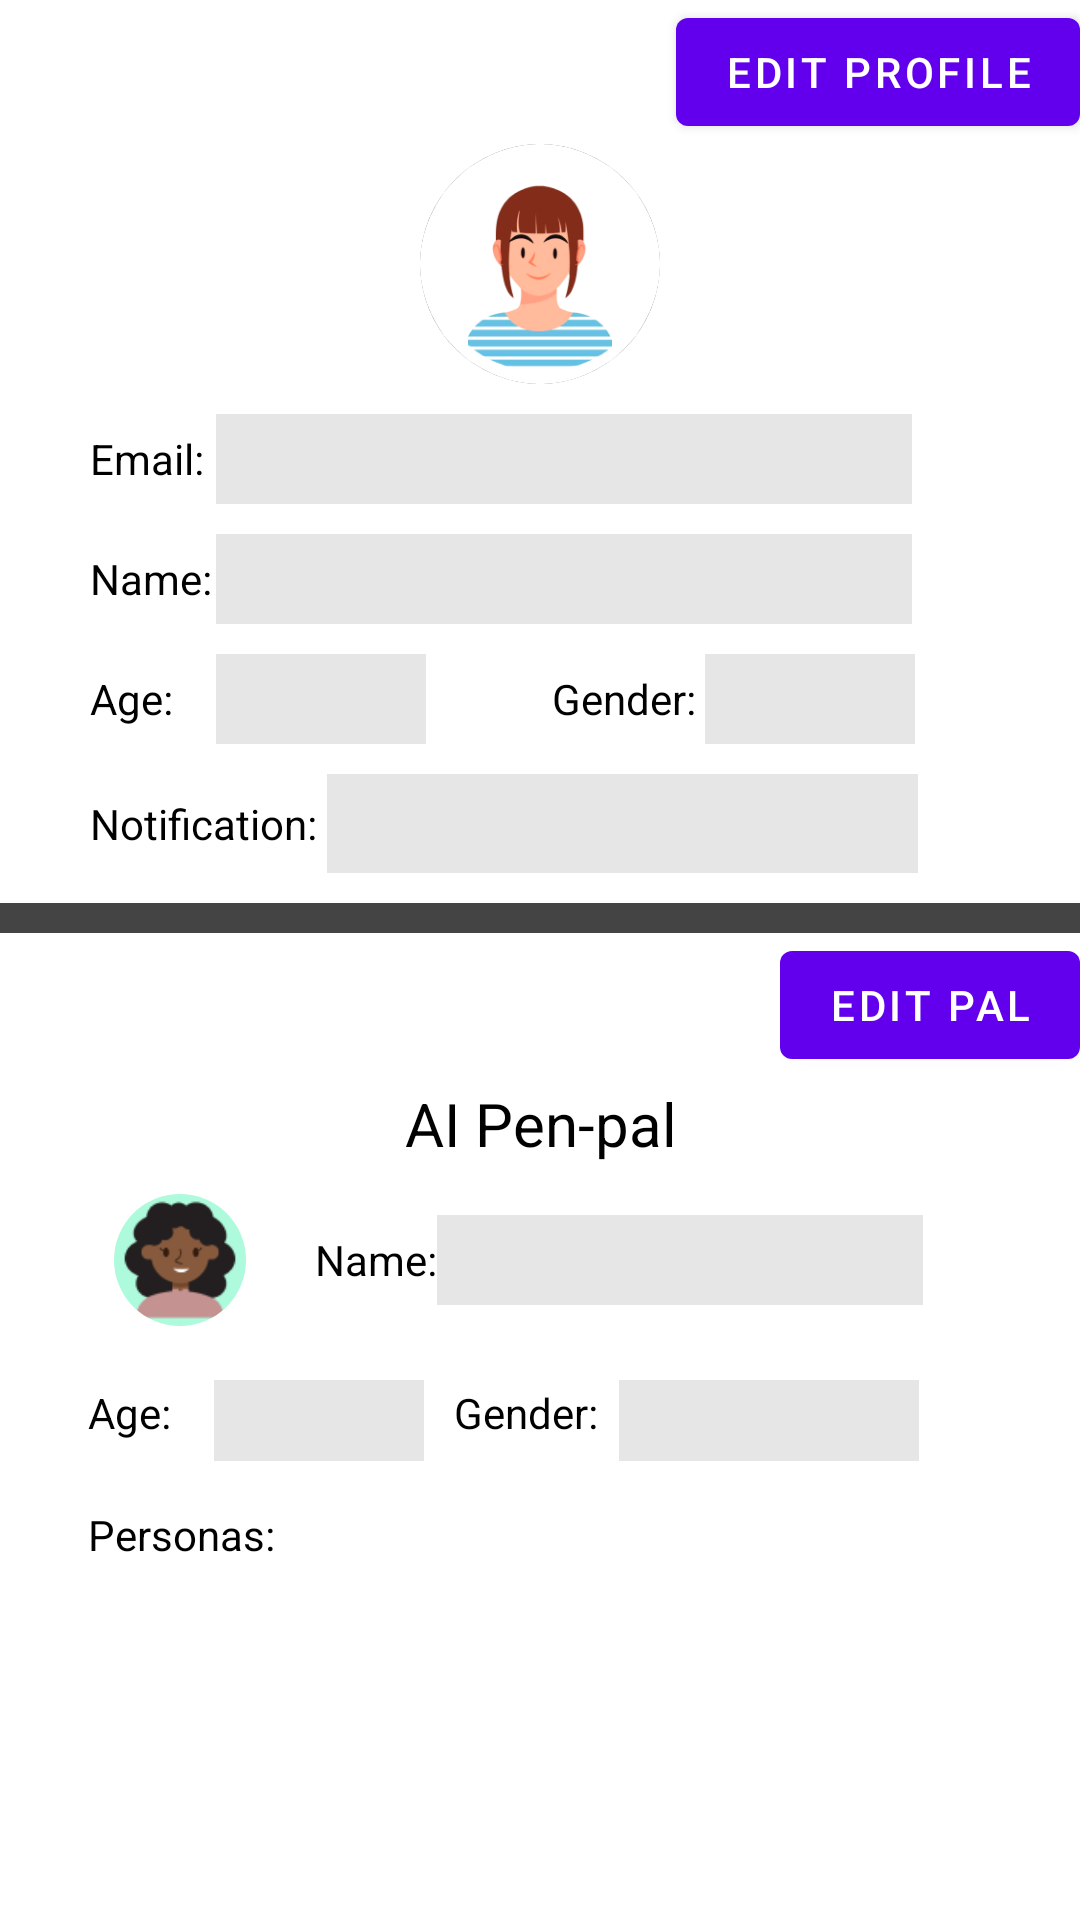

Screen size 1080 x 1920. Icon name, then its center in pixels as point (x, y):
profile pic: point (540, 264)
